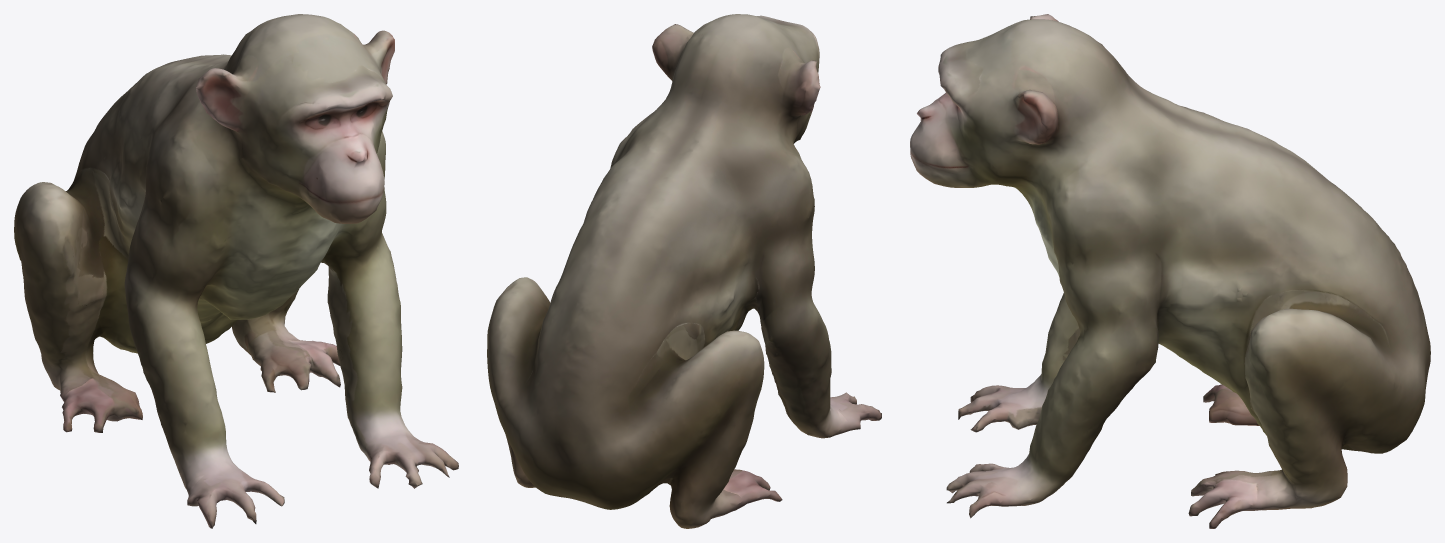
File: Primate.glb
3 renders of one model, left to right at view 1: azimuth 30°, elevation 25°; view 2: azimuth 150°, elevation 25°; view 3: azimuth 270°, elevation 25°, orthographic. The views are drawn at different scales.
Bounding box in the file's own units: 0.7659 × 1.11 × 1.2.
Materials: 1 (1 with a texture image).
